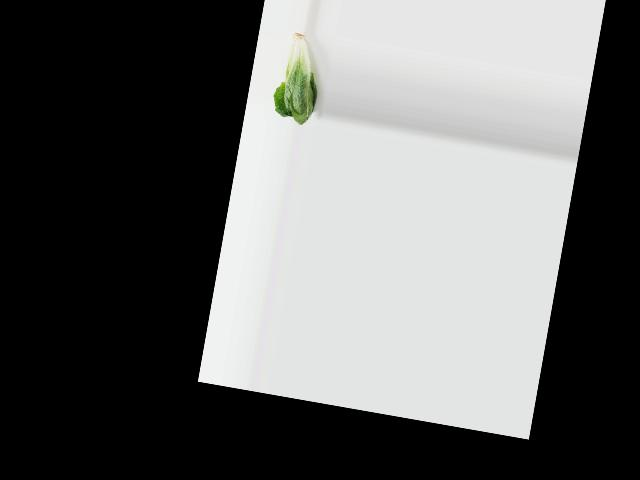lettuce: (268, 26, 330, 127)
